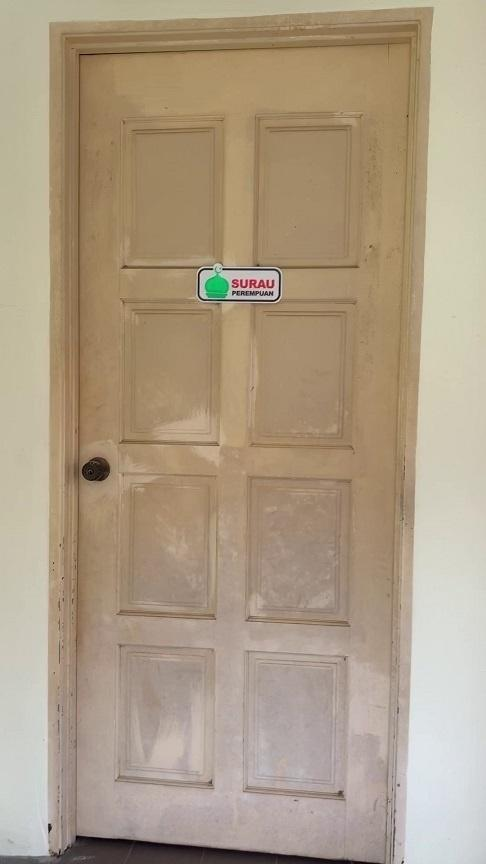door: (69, 14, 407, 860)
